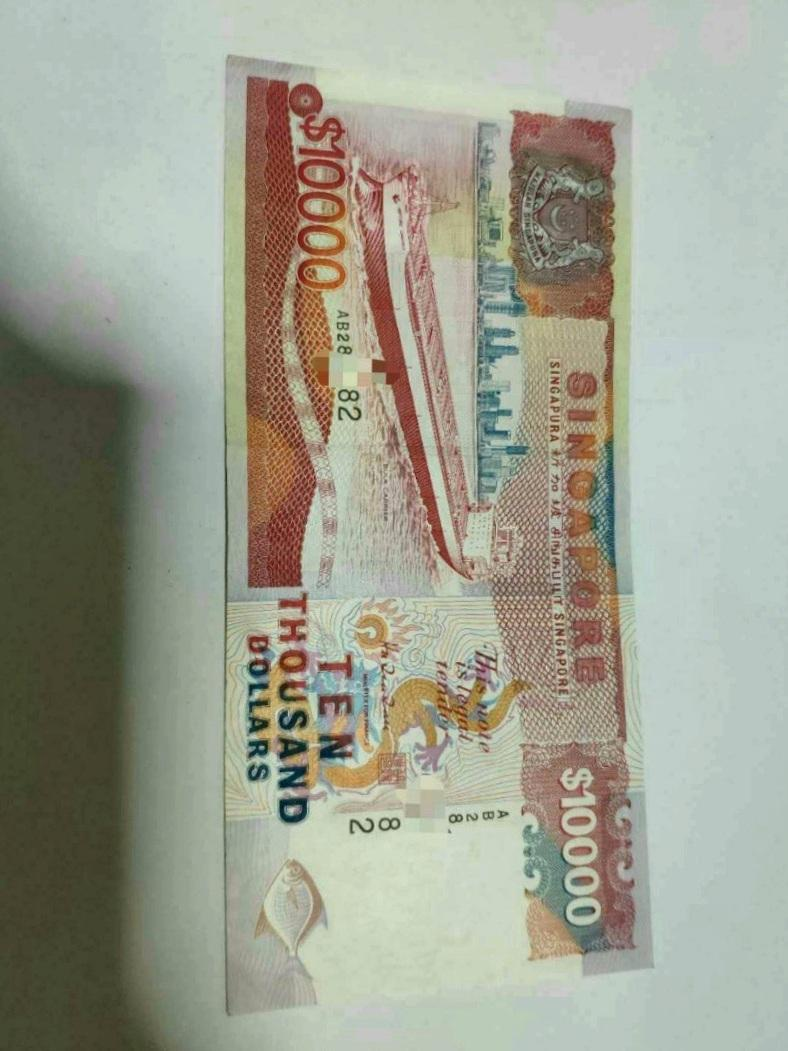10000SingaporeDollar: (238, 88, 632, 984)
